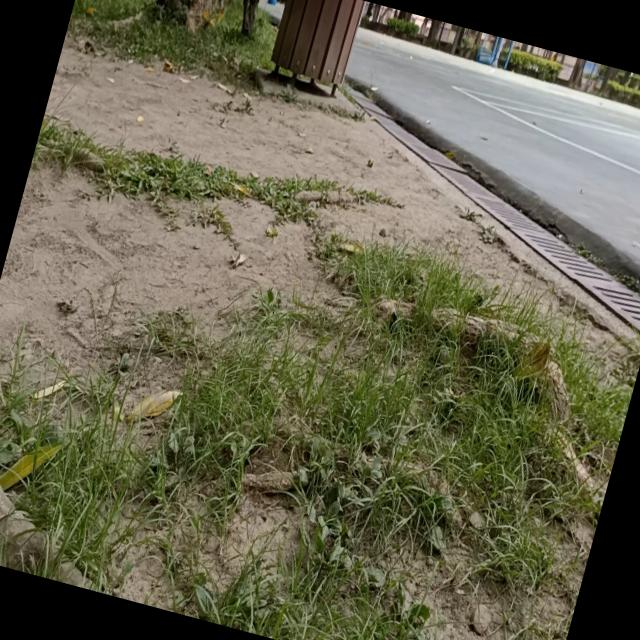grass: (0, 236, 640, 640), (30, 121, 397, 222), (66, 0, 276, 80)
white-sand: (45, 35, 516, 282), (0, 169, 316, 363)
